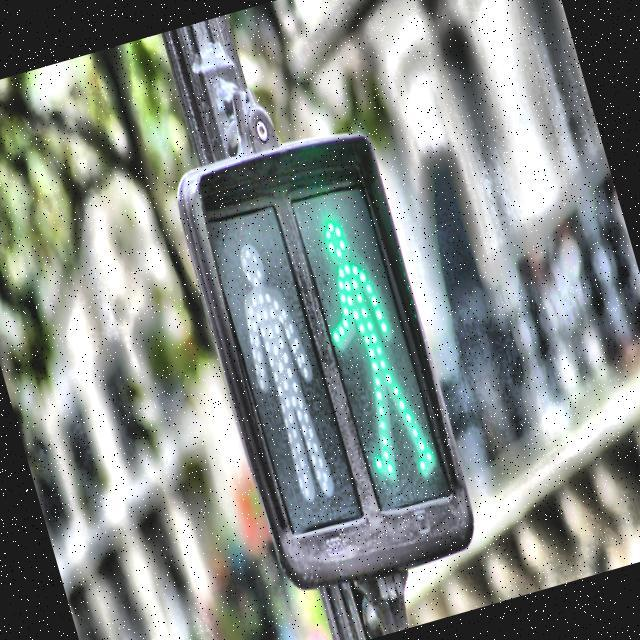green_light: (294, 199, 444, 497)
